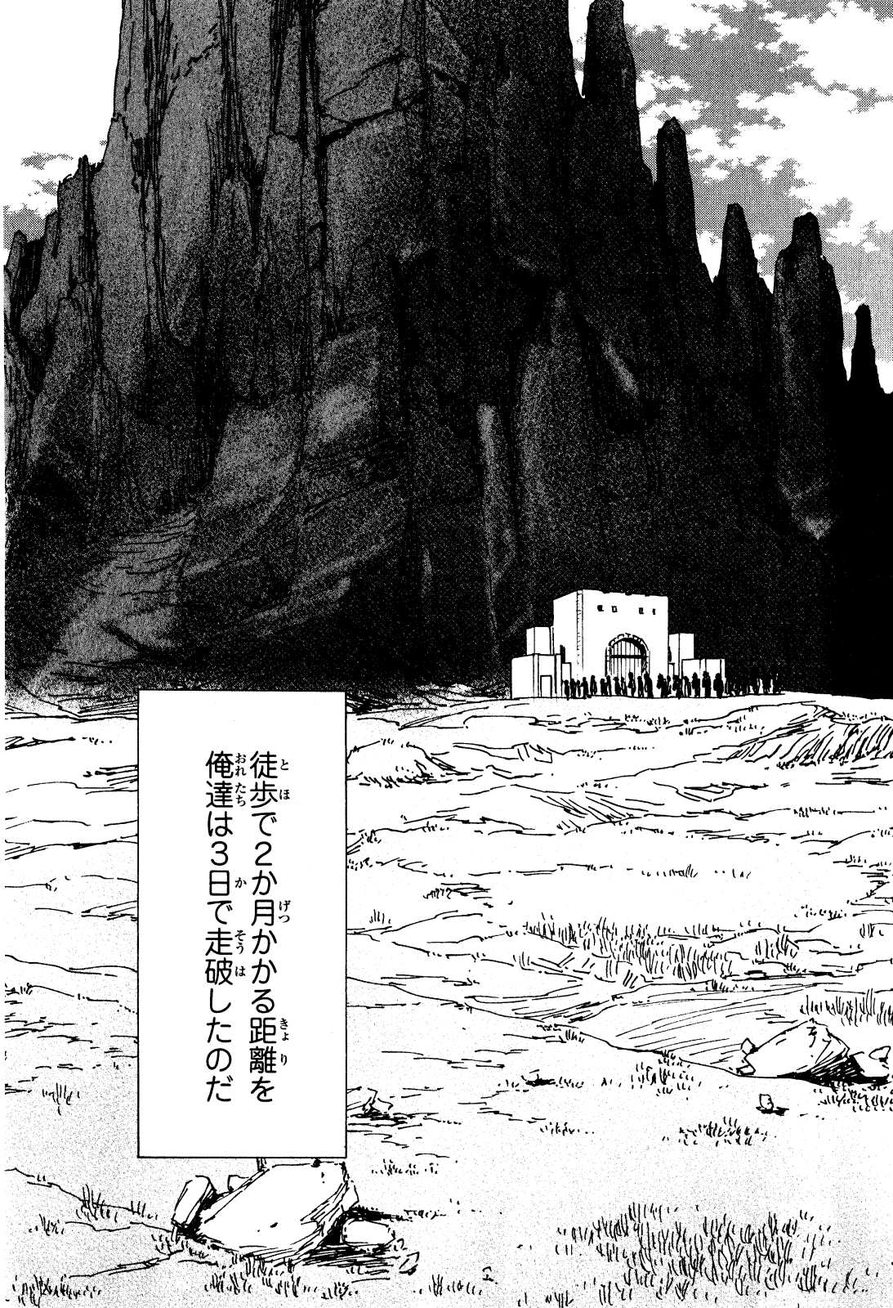bubbles: (129, 684, 357, 1167)
